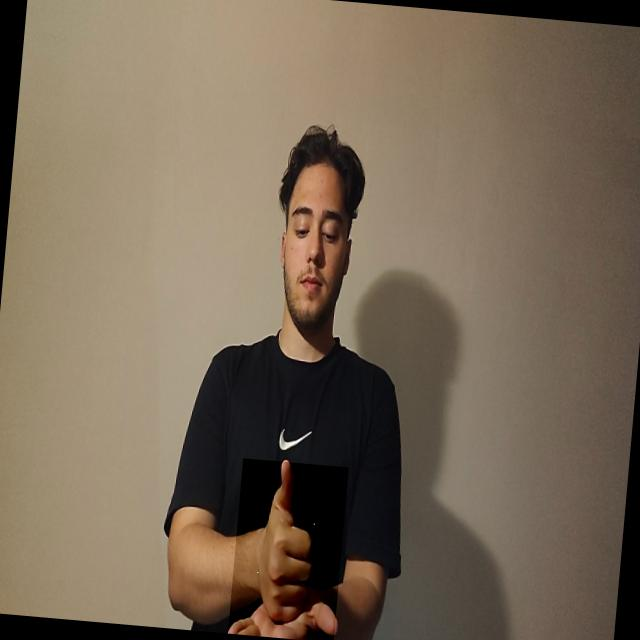help: (227, 457, 348, 640)
